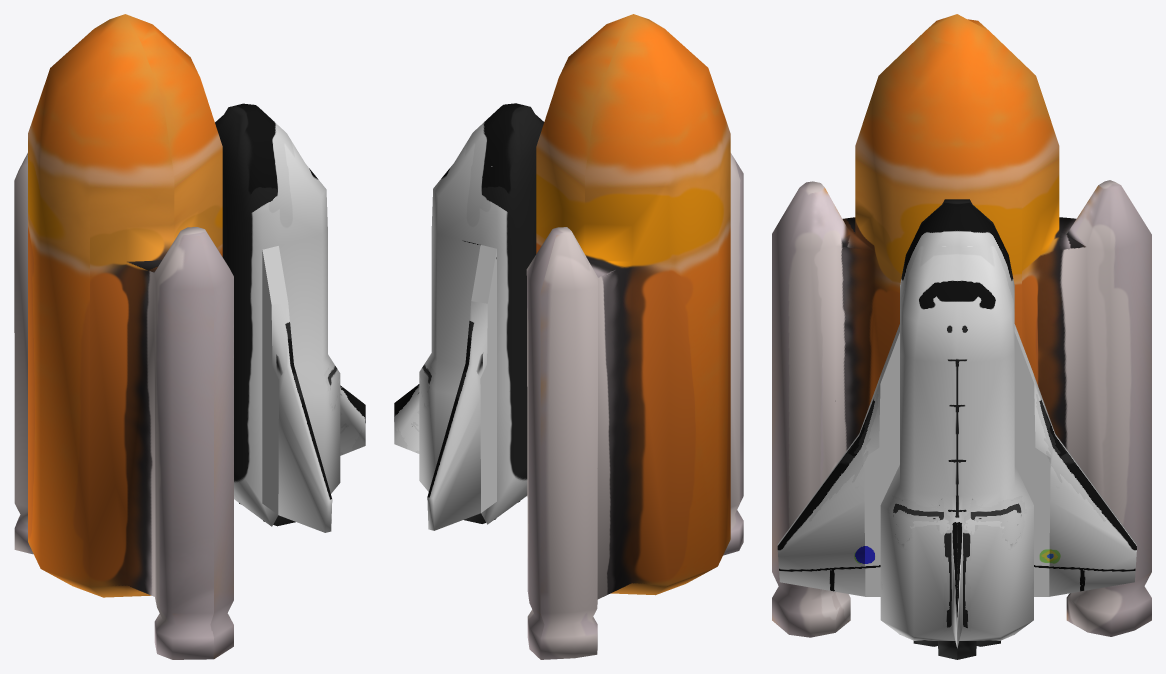
File: nave.fbx
3 views of the same model, side by side, from view 1: azimuth 30°, elevation 25°; view 2: azimuth 150°, elevation 25°; view 3: azimuth 270°, elevation 25° (orthographic). The views are drawn at different scales.
Parts seen in each view (by area): view 1: Propulsor, Nave; view 2: Propulsor, Nave; view 3: Propulsor, Nave.
Boxes of the visible parts, <box> form: Propulsor: <box>14,14,233,659</box>; Nave: <box>215,103,365,532</box>; Propulsor: <box>526,14,743,659</box>; Nave: <box>394,103,544,530</box>; Propulsor: <box>772,14,1151,637</box>; Nave: <box>777,199,1136,659</box>.
Bounding box in the file's own units: 384 × 655 × 372.
